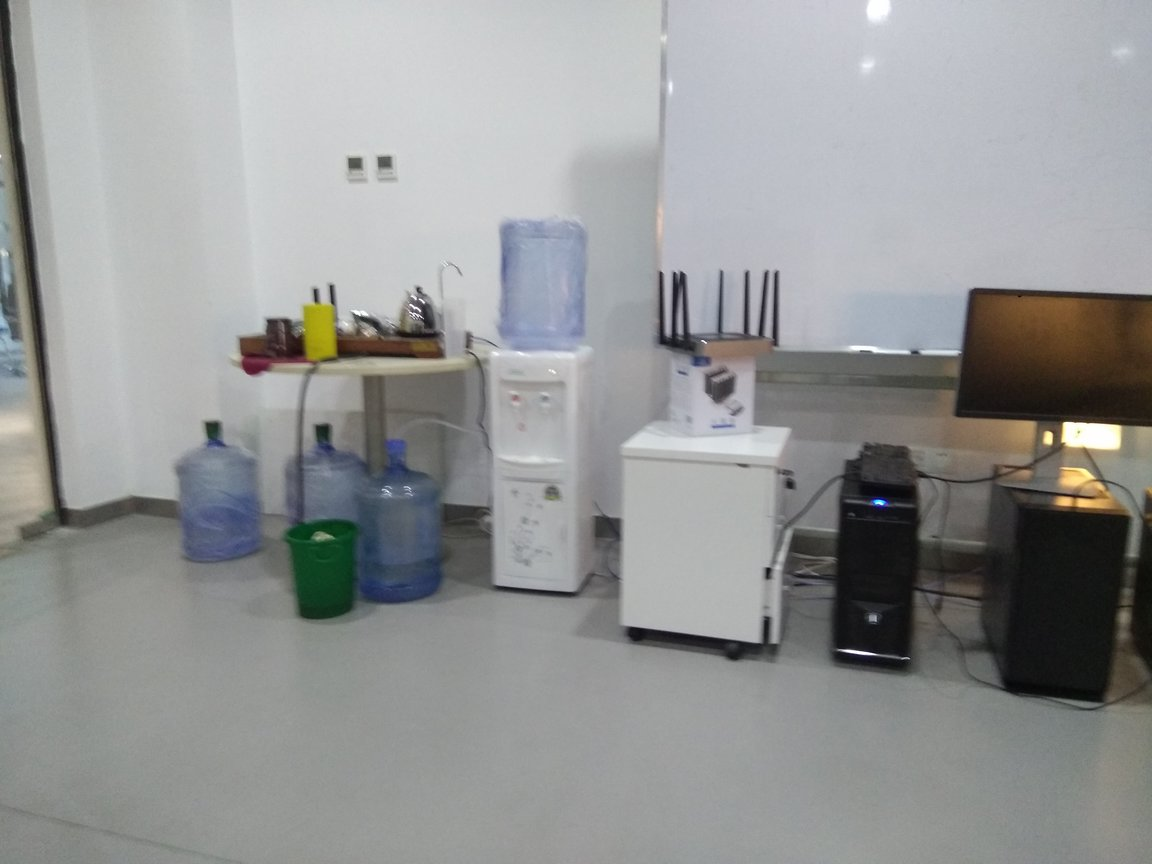computer: (991, 466, 1122, 709), (814, 446, 912, 669)
drawer chest: (616, 415, 795, 658)
monitor: (954, 271, 1152, 496)
scuttlebutt: (357, 438, 448, 606), (491, 219, 601, 349), (281, 422, 365, 577), (182, 416, 258, 561)
water dispenser: (478, 340, 588, 598)
